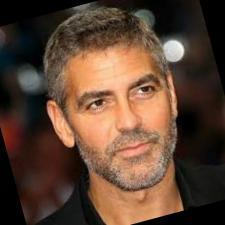Sober: (68, 56, 173, 170)
